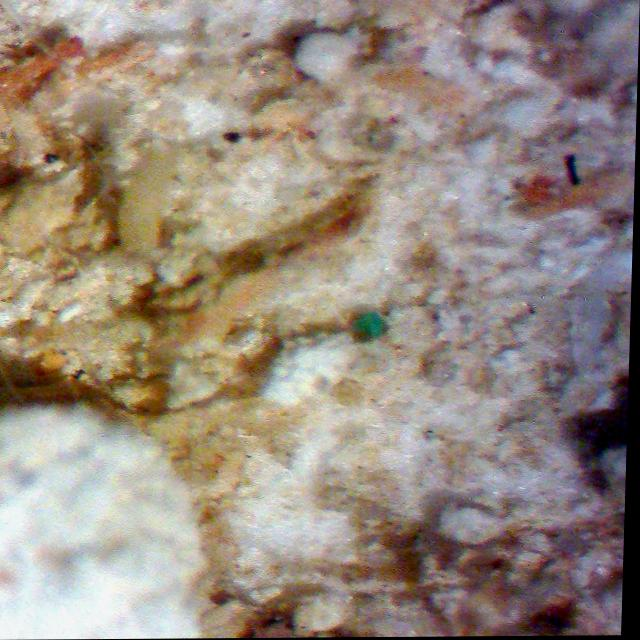microplastic: (353, 310, 394, 340)
